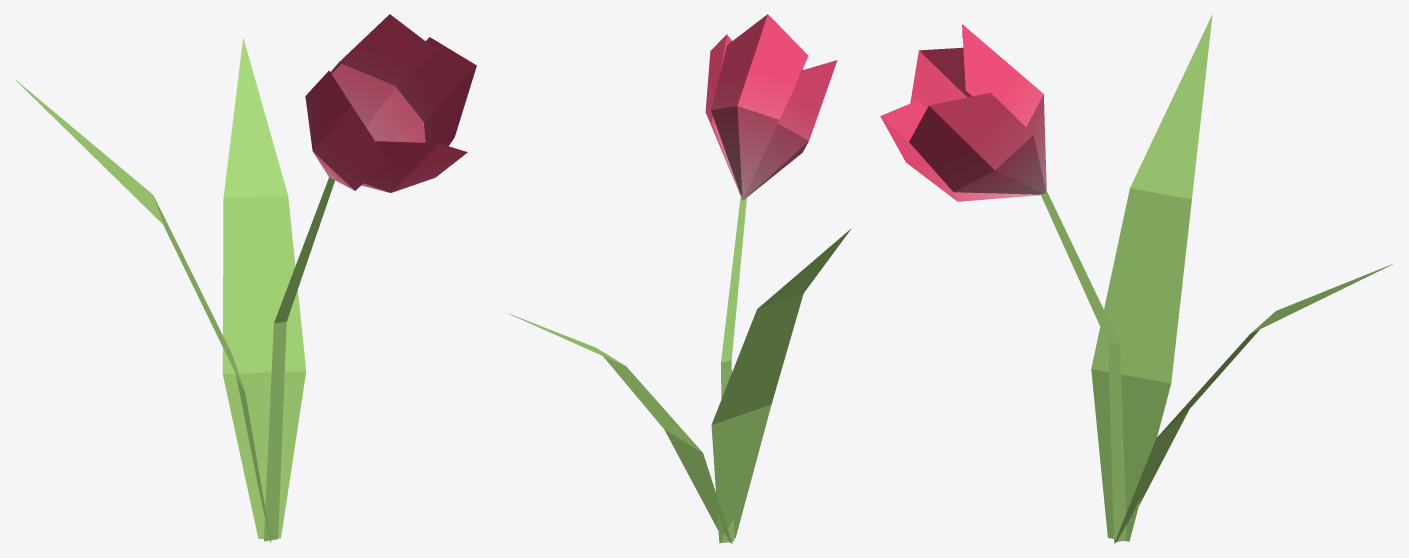
File: Flower_f_TwoS_08.fbx
3 renders of one model, left to right at view 1: azimuth 30°, elevation 25°; view 2: azimuth 150°, elevation 25°; view 3: azimuth 270°, elevation 25°, orthographic. The views are drawn at different scales.
Parts seen in each view (by area): view 1: Flower_f_TwoS_08; view 2: Flower_f_TwoS_08; view 3: Flower_f_TwoS_08.
Part boxes in pixels (x1=…): Flower_f_TwoS_08: x1=15, y1=14, x2=476, y2=542; Flower_f_TwoS_08: x1=508, y1=14, x2=850, y2=543; Flower_f_TwoS_08: x1=880, y1=14, x2=1392, y2=543.
Bounding box in the file's own units: 29.06 × 48.95 × 42.93.
